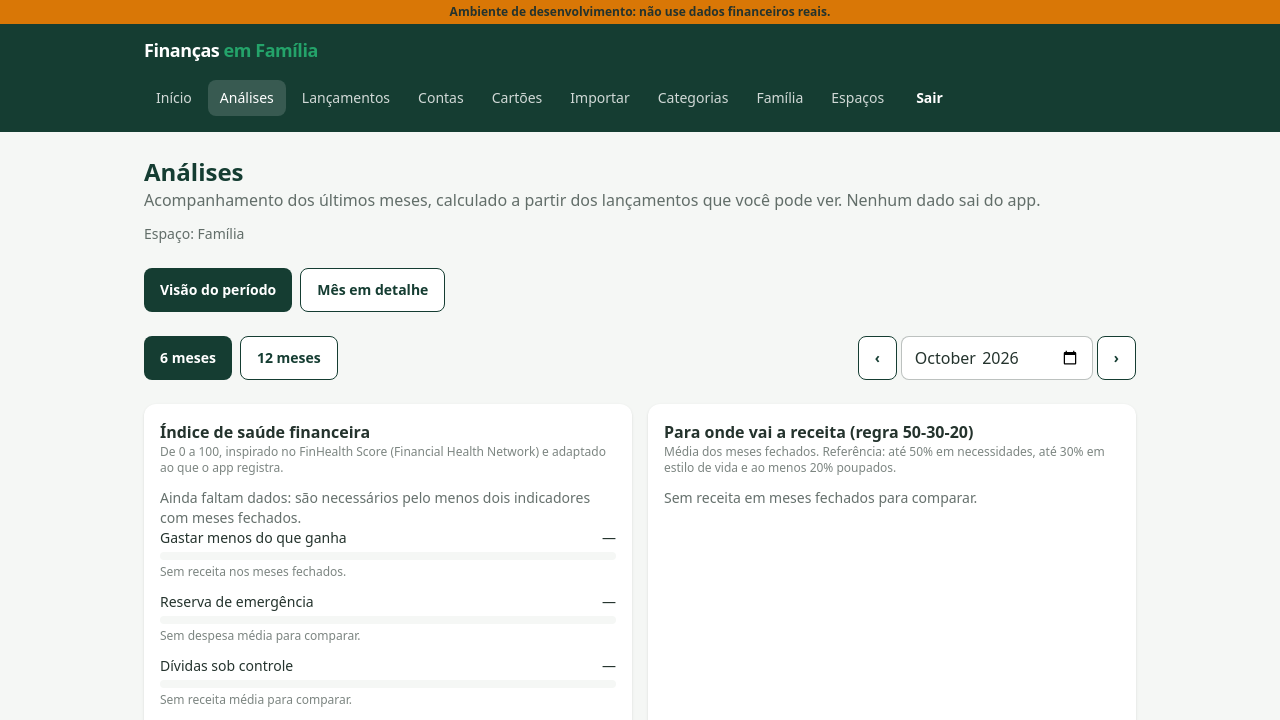
Test case: Análises aprofundadas › abre o mês em detalhe com ritmo, maiores despesas e dias da semana
What coordinates should you click on to do the following:
click the button "Mês em detalhe"
I would click on:
 (373, 290)
Its box is [300, 268, 445, 312].
(page scrolled)
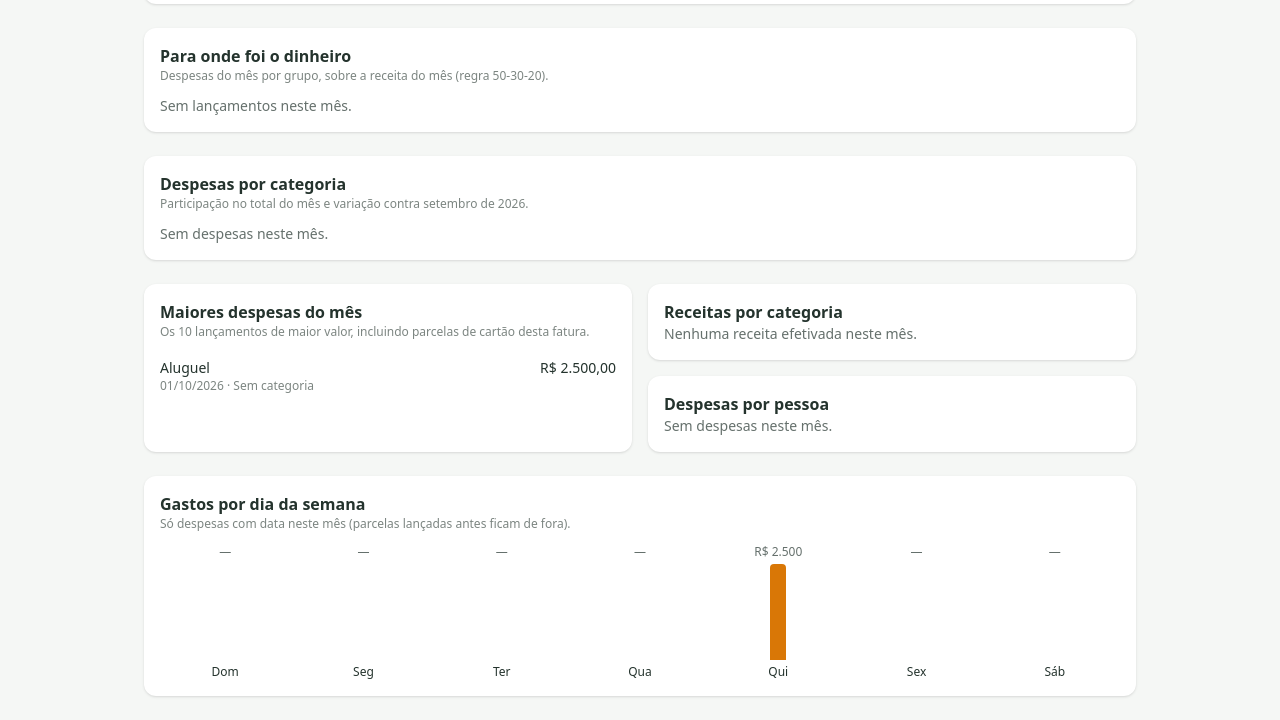
Expected: the heading "Gastos por dia da semana" is shown, [160, 493, 365, 515]
Expected: the text "Aluguel" is shown, [160, 358, 210, 377]
